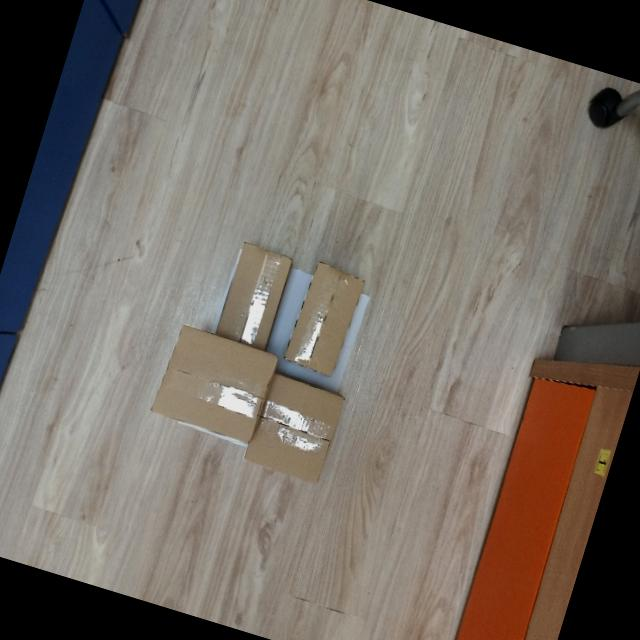box: (149, 319, 279, 442), (242, 369, 349, 489), (282, 257, 369, 379), (214, 242, 296, 350)
